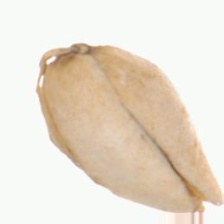L1: (36, 38, 97, 84), (168, 175, 224, 213)
L2: (35, 43, 222, 213)
